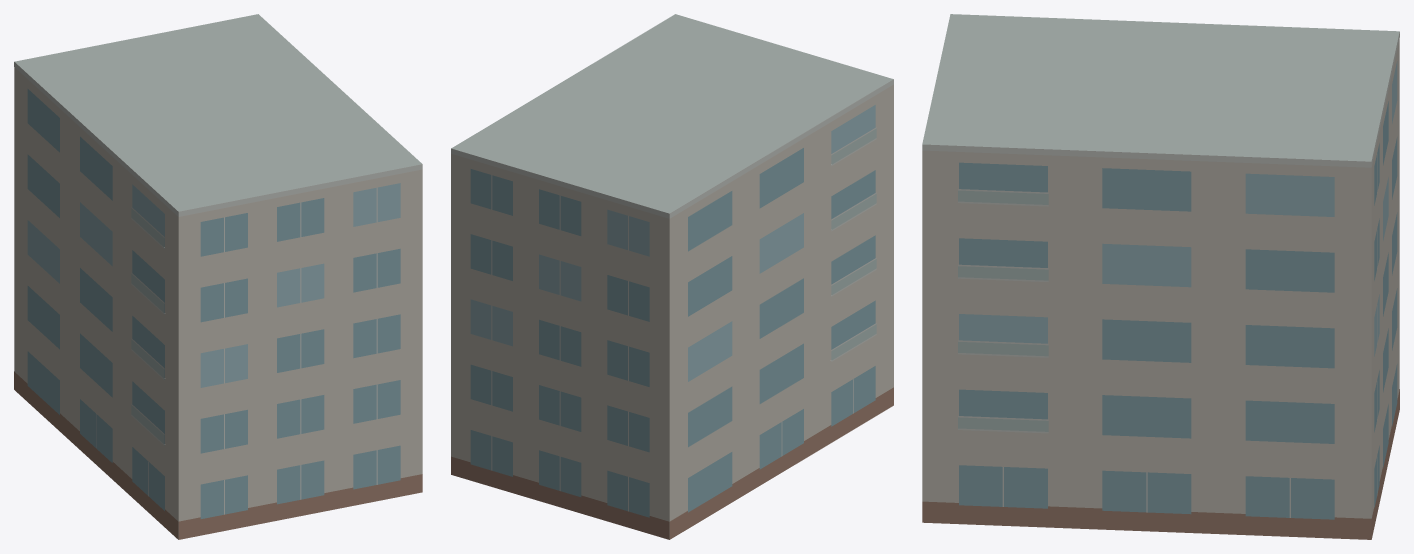
File: survey-upis-32641916.glb
The picture shows the model from 3 angles, left to right: view 1: azimuth 30°, elevation 25°; view 2: azimuth 150°, elevation 25°; view 3: azimuth 270°, elevation 25°; orthographic projection. The views are drawn at different scales.
Parts seen in each view (by area): view 1: survey-upis-32641916.tmp; view 2: survey-upis-32641916.tmp; view 3: survey-upis-32641916.tmp.
Boxes of the visible parts, box(x1,y1,x2,y2) form: survey-upis-32641916.tmp: box(14, 14, 422, 539); survey-upis-32641916.tmp: box(451, 14, 893, 539); survey-upis-32641916.tmp: box(922, 14, 1399, 539).
Size of the model in its own units: 12.78 by 15.25 by 17.46.
